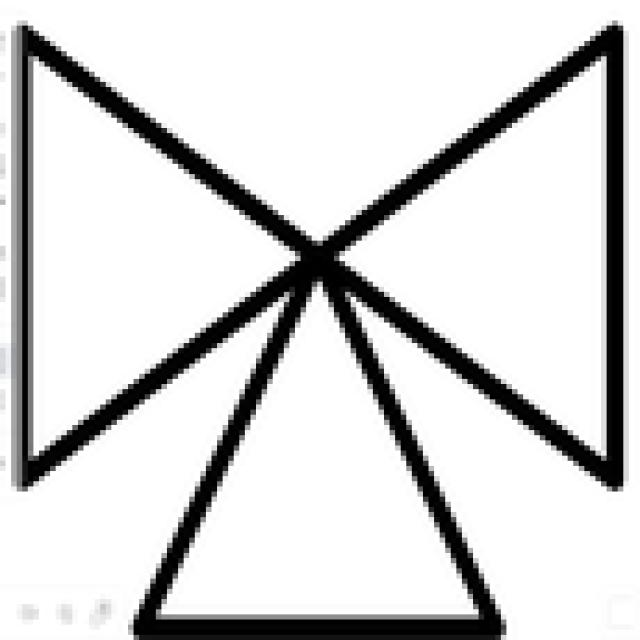3-way Valve: (22, 32, 617, 621)
